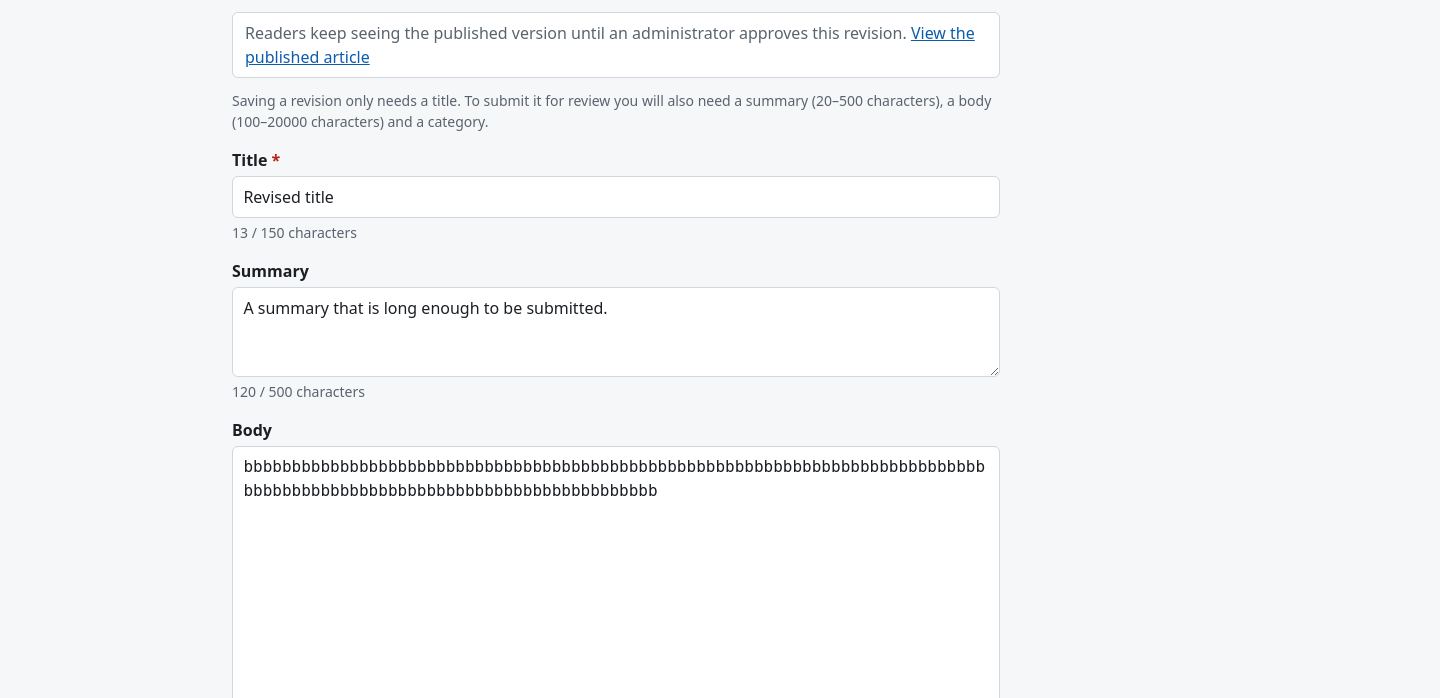
Test case: a draft revision › puts the server field messages on the fields
This screenshot has width=1440, height=698.
In the field with test id "revision-title": (616, 197) [232, 176, 1000, 218], type " more"
(page scrolled)
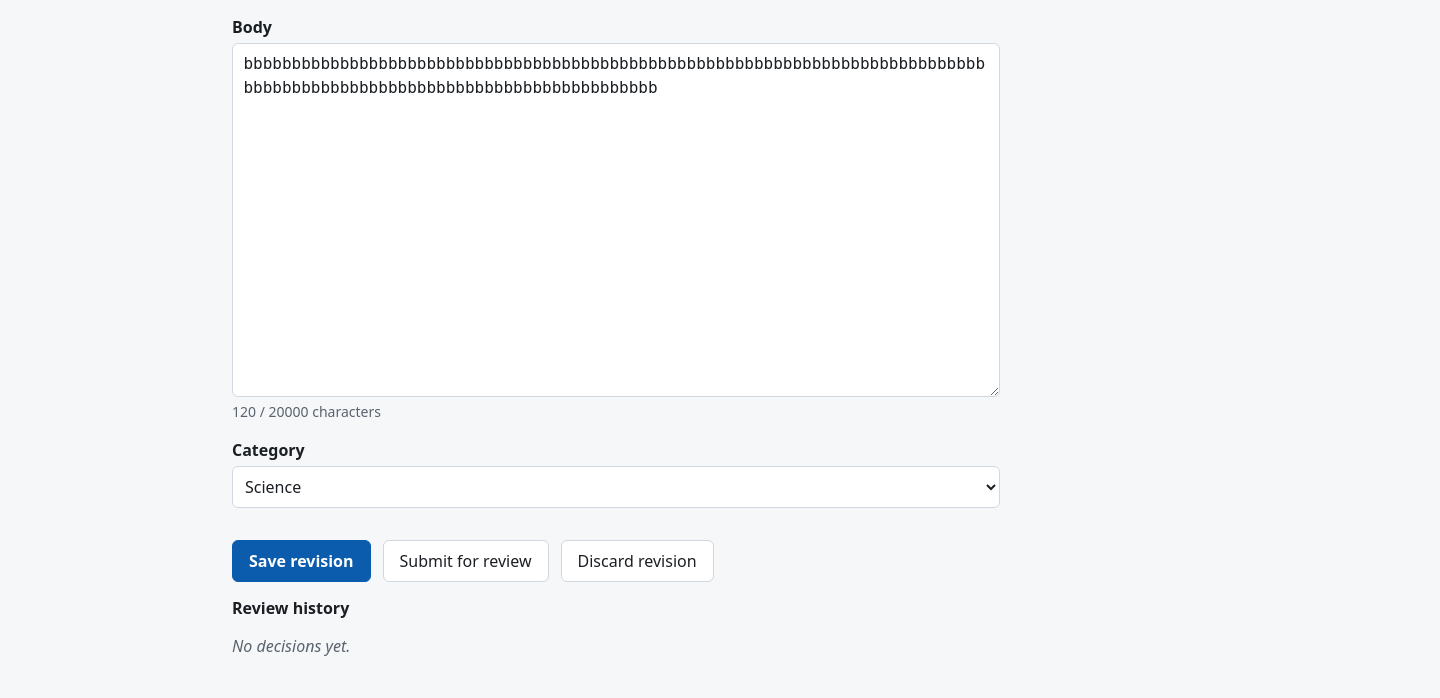
Click the button with test id "revision-save": (301, 561) [232, 540, 370, 582]
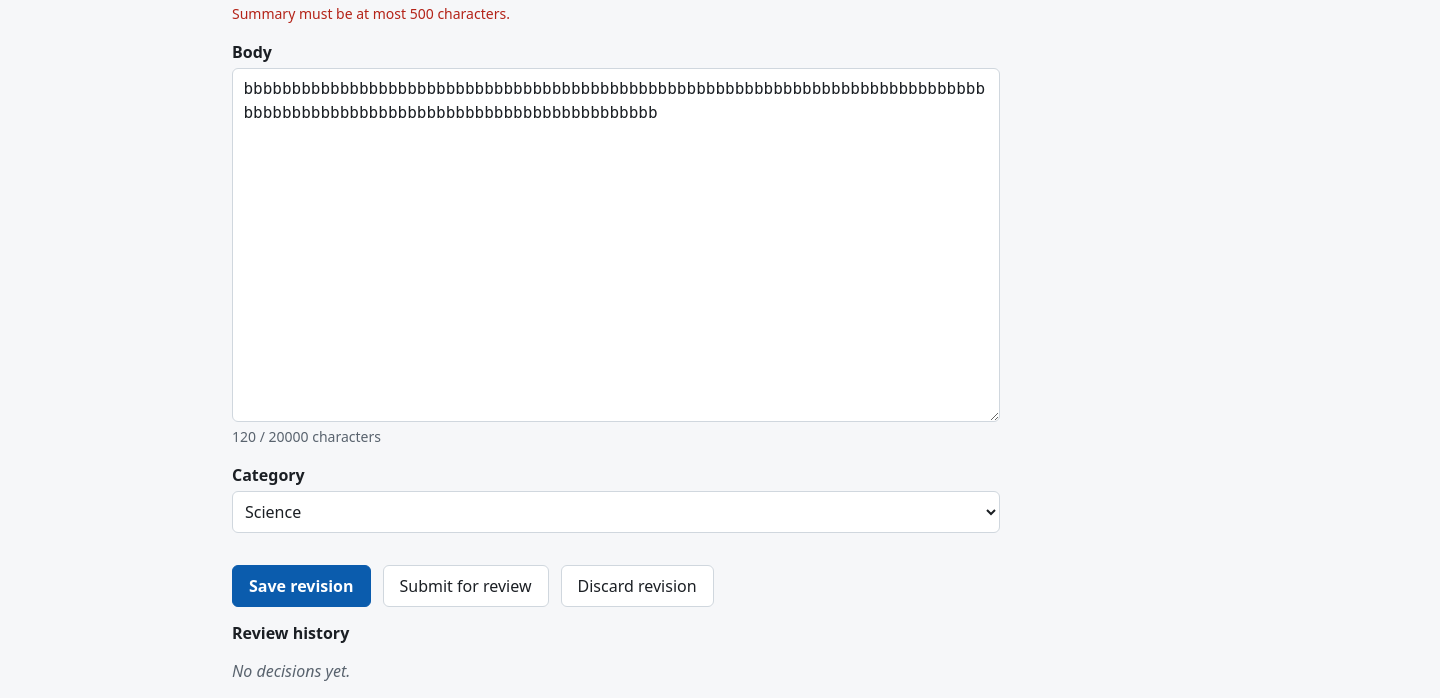
Now the text "Summary must be at most 500 characters." is shown, box [232, 4, 510, 23]
